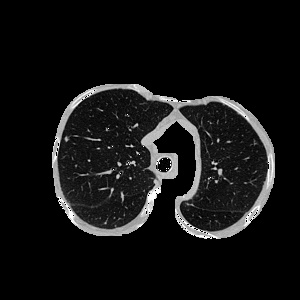PN: (64, 136, 68, 140)
